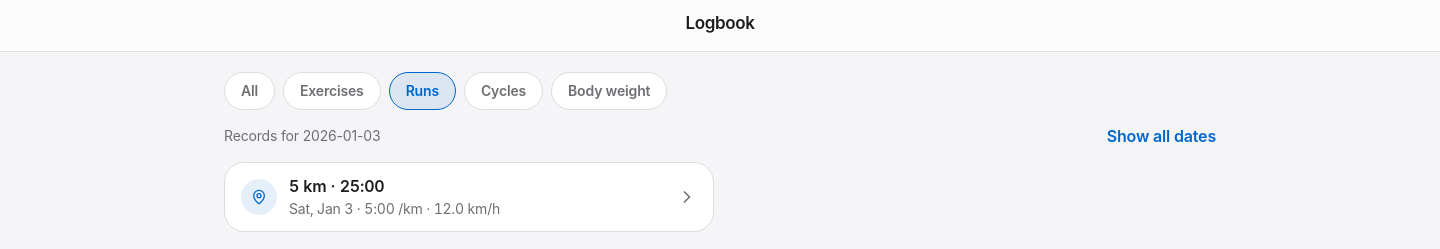
Test: opens calendar-selected dates and can clear the date without changing the type filter
expect the number of list items is 1: met, box [224,162,714,232]
expect the text "Records for 2026-01-03" is shown: met, box [224,126,380,146]
Click the button "Show all dates" at (1161, 136), box [1107,126,1216,146]
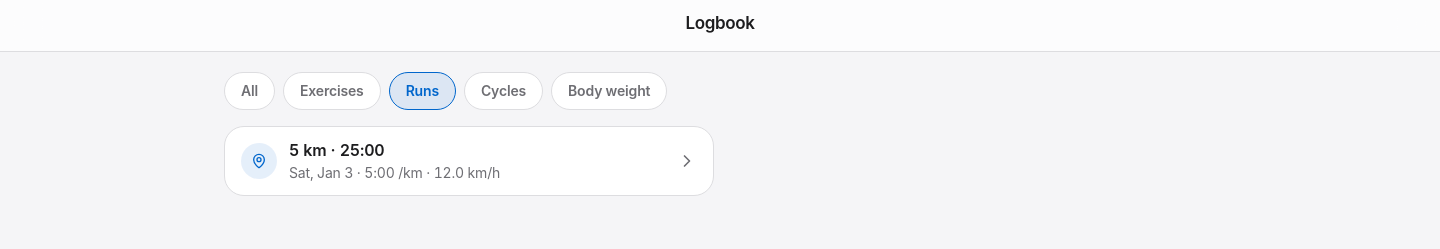
expect the text "Records for 2026-01-03" is gone: met
